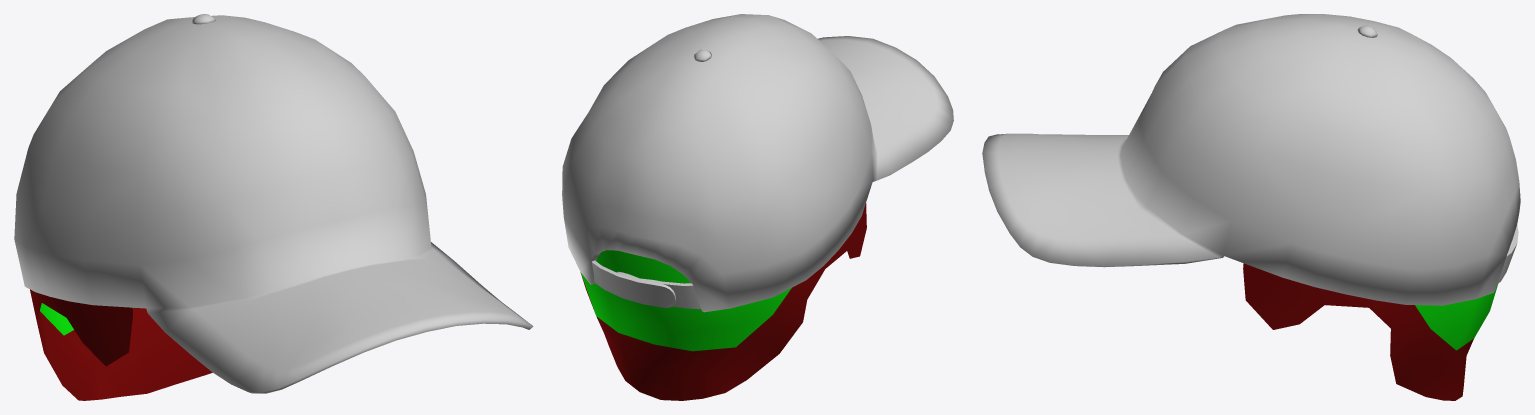
File: BaseballHat_Hair_03.obj
3 views of the same model, side by side, from view 1: azimuth 30°, elevation 25°; view 2: azimuth 150°, elevation 25°; view 3: azimuth 270°, elevation 25° (orthographic). The views are drawn at different scales.
Bounding box in the file's own units: 16.06 × 19.12 × 25.85.
